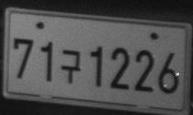1: (38, 40, 58, 81), (87, 45, 107, 86)
2: (110, 46, 130, 89), (134, 48, 154, 91)
6: (158, 52, 178, 94)
7: (12, 38, 33, 78)
구: (61, 49, 81, 83)
